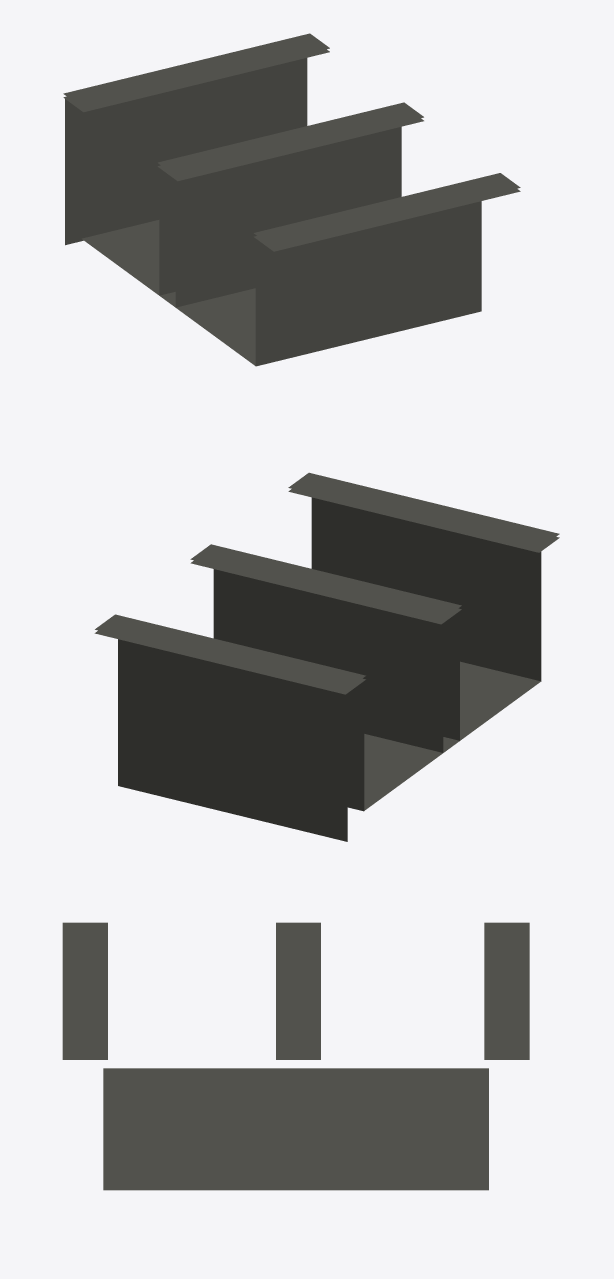
The picture shows the model from 3 angles, top to bottom: view 1: azimuth 30°, elevation 25°; view 2: azimuth 150°, elevation 25°; view 3: azimuth 270°, elevation 25°; orthographic projection. The views are drawn at different scales.
Bounding box in the file's own units: 0.97 × 0.4396 × 1.29.
